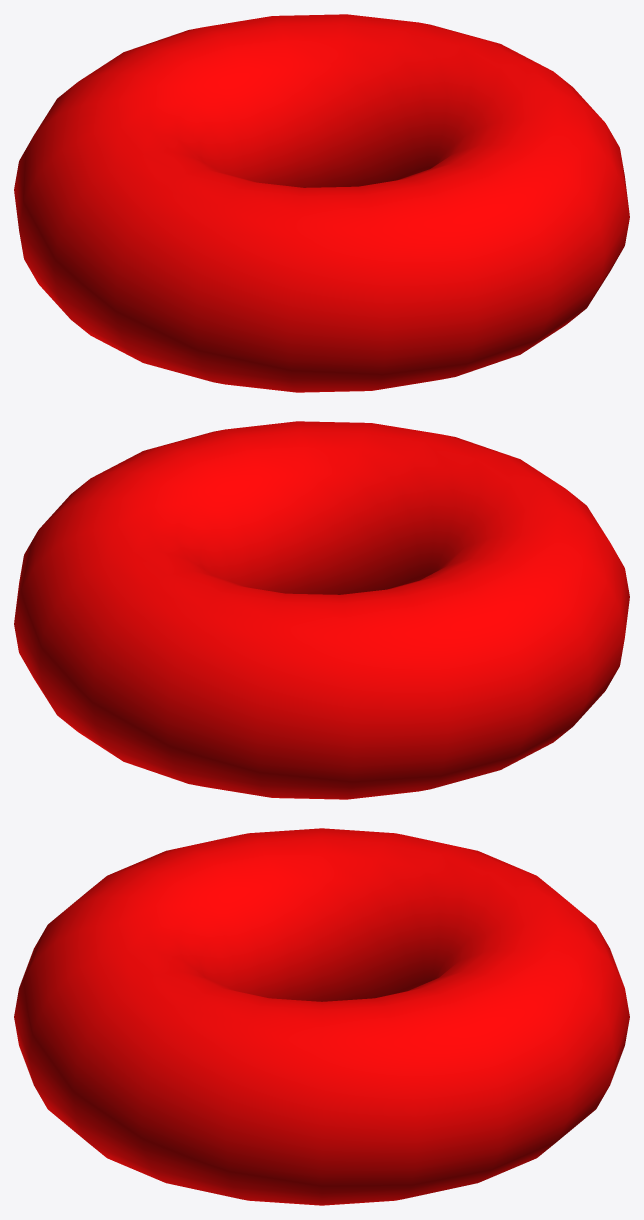
File: Toroide1.obj
The picture shows the model from 3 angles, top to bottom: view 1: azimuth 30°, elevation 25°; view 2: azimuth 150°, elevation 25°; view 3: azimuth 270°, elevation 25°; orthographic projection.
Visible parts, largest first — view 1: toroide1; view 2: toroide1; view 3: toroide1.
Boxes of the visible parts, x1,y1,x2,y2 form: toroide1: (14,14,629,392); toroide1: (14,421,629,799); toroide1: (14,828,629,1205).
Size of the model in its own units: 1.12 by 0.3741 by 1.12.
1 material, 1 textured.
